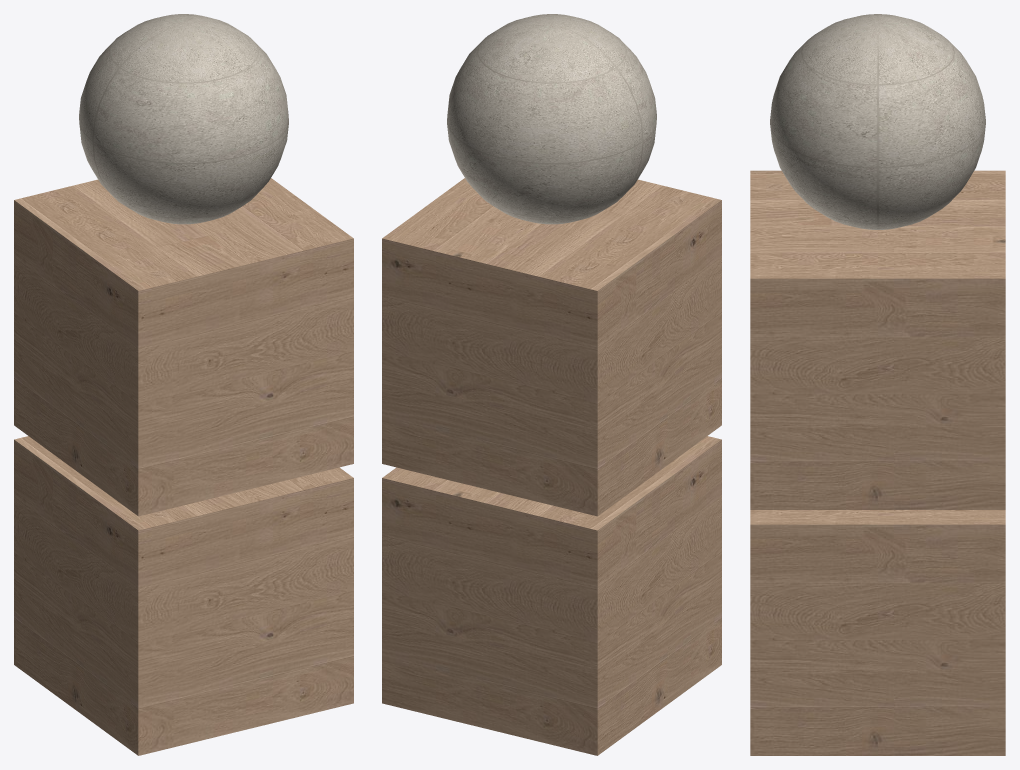
The model's file is morph_targets.glb.
The picture shows the model from 3 angles, left to right: view 1: azimuth 30°, elevation 25°; view 2: azimuth 150°, elevation 25°; view 3: azimuth 270°, elevation 25°; orthographic projection. The views are drawn at different scales.
Parts seen in each view (by area): view 1: top_cube, bottom_cube, Sphere; view 2: top_cube, bottom_cube, Sphere; view 3: top_cube, bottom_cube, Sphere.
Part boxes in pixels (x1,y1,x2,y2): top_cube: (14, 178, 353, 516); bottom_cube: (14, 436, 353, 755); Sphere: (79, 14, 288, 224); top_cube: (382, 178, 721, 516); bottom_cube: (382, 436, 721, 755); Sphere: (447, 14, 656, 224); top_cube: (750, 170, 1005, 509); bottom_cube: (750, 510, 1005, 755); Sphere: (770, 14, 985, 229).
Size of the model in its own units: 1.6 by 4.69 by 1.6.
Materials: 2 (2 with a texture image).
